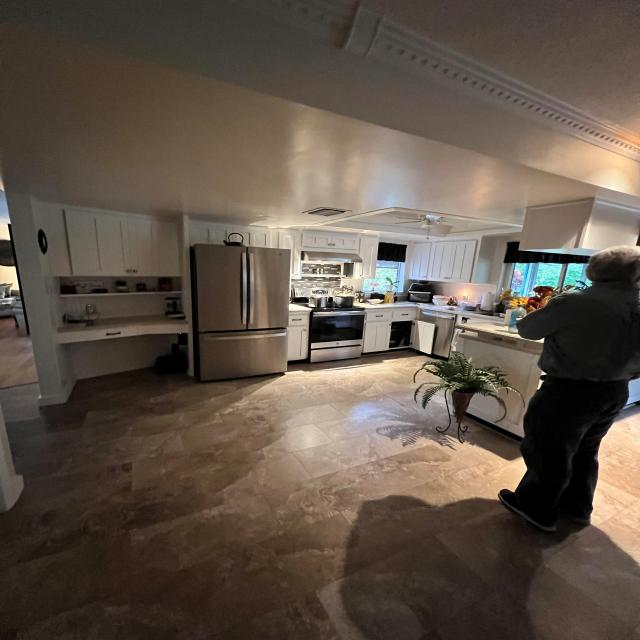Appliance_Dishwasher: (420, 309, 455, 360)
Appliance_Fridge: (189, 242, 291, 382)
Appliance_Oven: (291, 297, 366, 364)
Cabinet_Flat: (55, 325, 190, 344), (366, 308, 419, 322), (288, 314, 308, 327)
Cabinet_Shaker: (188, 222, 379, 282), (65, 210, 180, 276), (403, 241, 478, 282), (363, 322, 392, 354), (287, 326, 308, 360)
